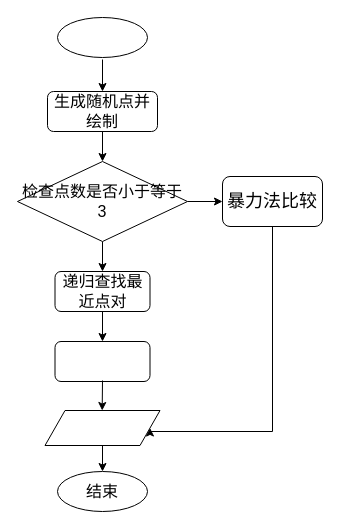
The diagram is 340 pixels wide and 529 high, and some of its shapes have lost their labels. Here are the shapes that lost their labels. From the top down, the centre of each, then its label:
At pixel 102 37: "开始".
At pixel 102 361: "合并结果".
At pixel 102 428: "距离最短点的坐标".
